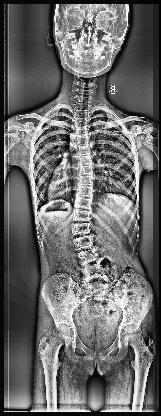Vertebrae: (84, 274, 110, 292), (73, 236, 95, 250), (76, 250, 98, 264), (82, 265, 104, 277), (72, 223, 92, 236), (74, 210, 94, 222), (78, 185, 95, 199), (76, 196, 92, 209), (74, 124, 90, 136), (79, 164, 95, 176), (79, 175, 95, 187), (80, 154, 94, 166), (77, 146, 93, 156), (76, 136, 90, 146), (74, 116, 88, 126)
